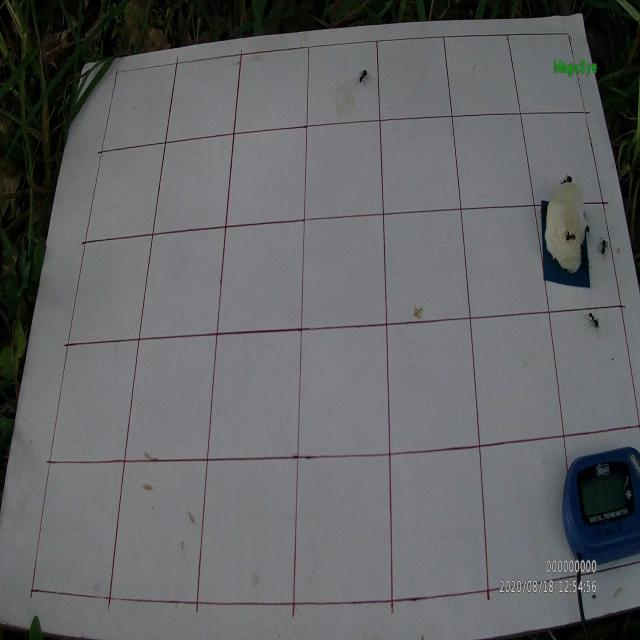Ant: (584, 303, 600, 339), (579, 242, 592, 270), (354, 69, 372, 89), (563, 228, 579, 249), (598, 235, 609, 262), (560, 174, 572, 185)
